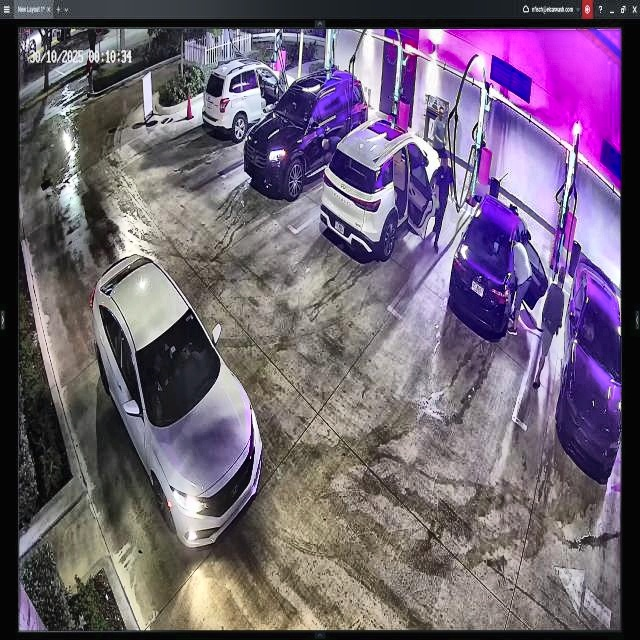Car: (89, 250, 264, 544), (322, 120, 444, 260), (242, 65, 368, 192), (448, 194, 528, 336), (203, 58, 298, 143)
